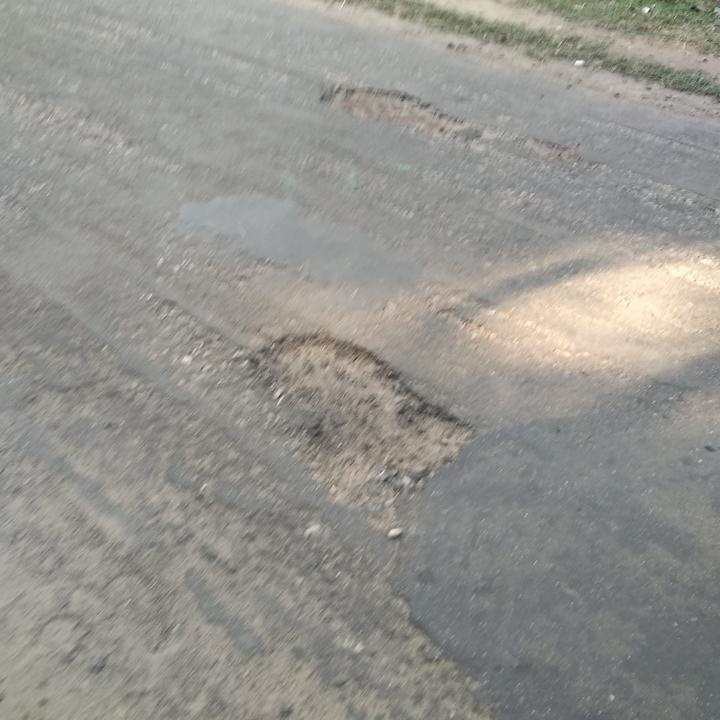pothole: (245, 324, 484, 516), (316, 80, 472, 137)
